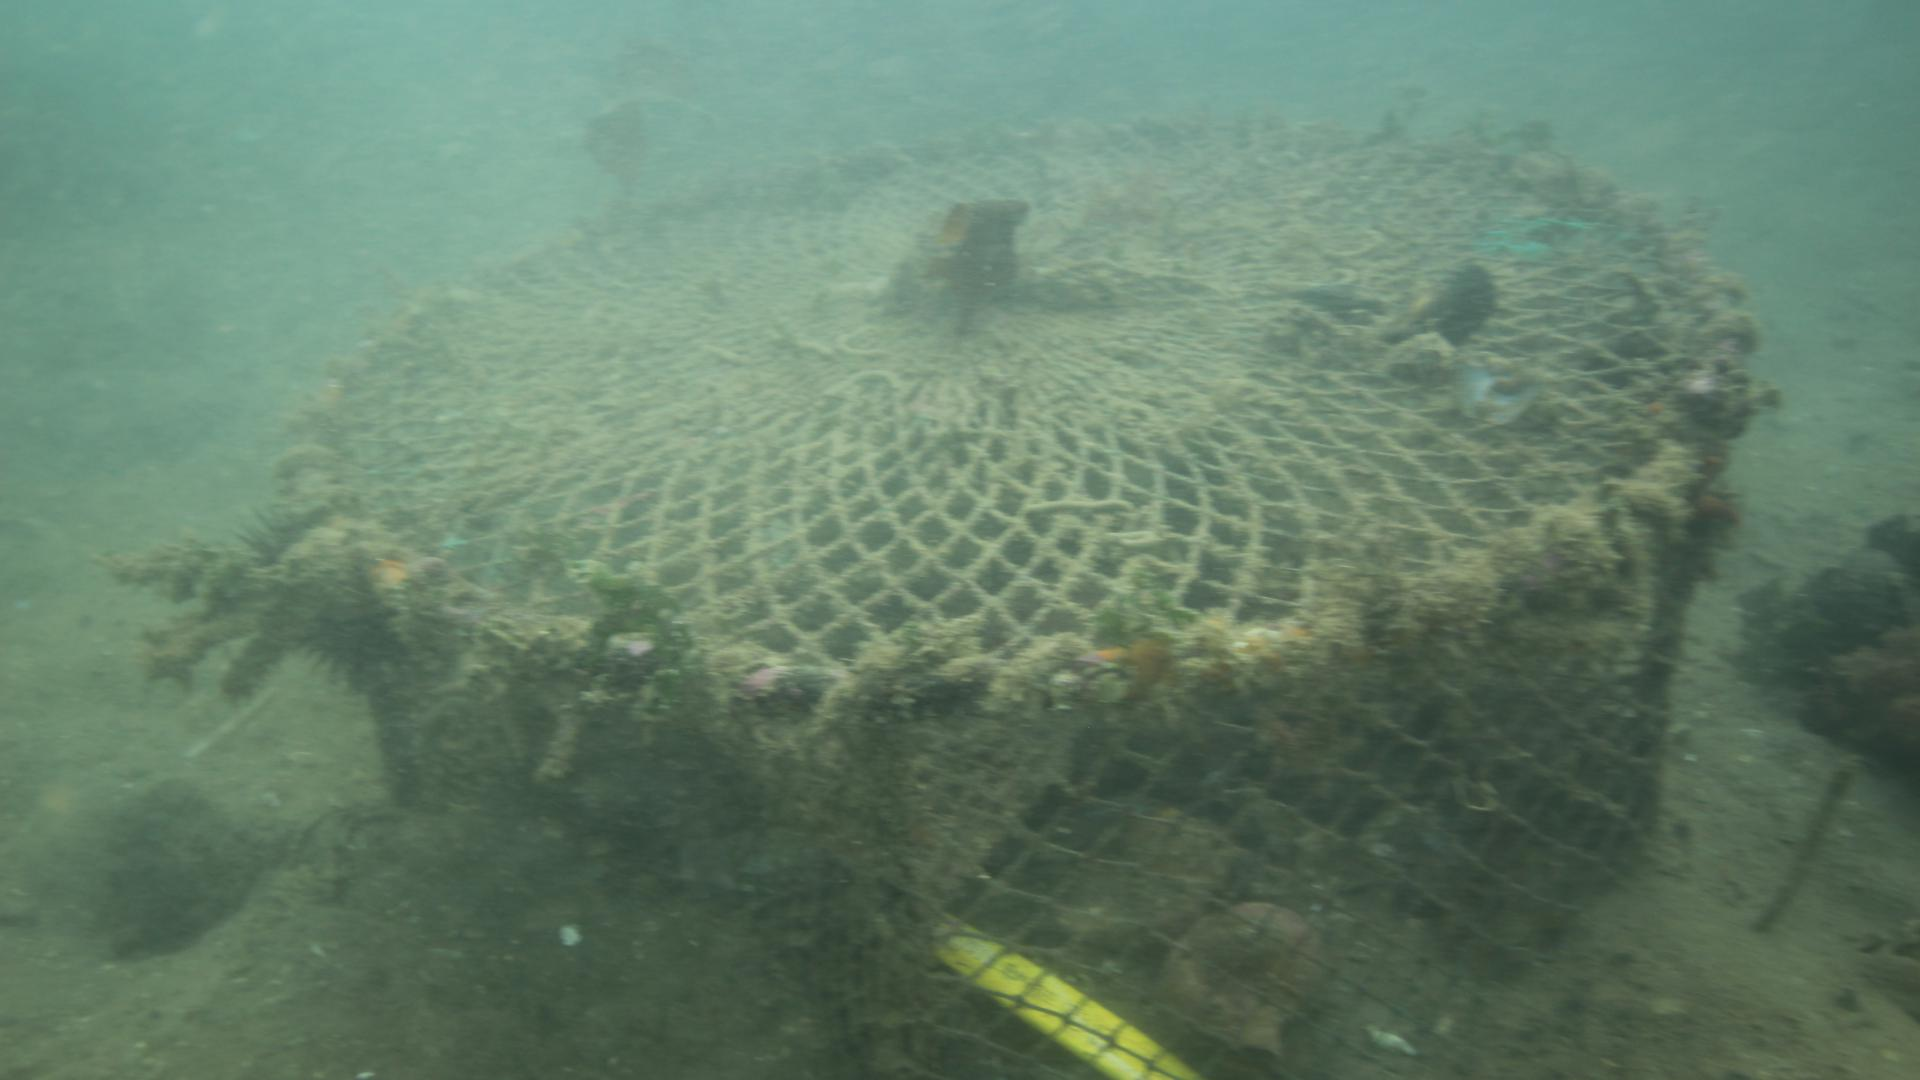circular fish trap: (272, 111, 1751, 1080)
